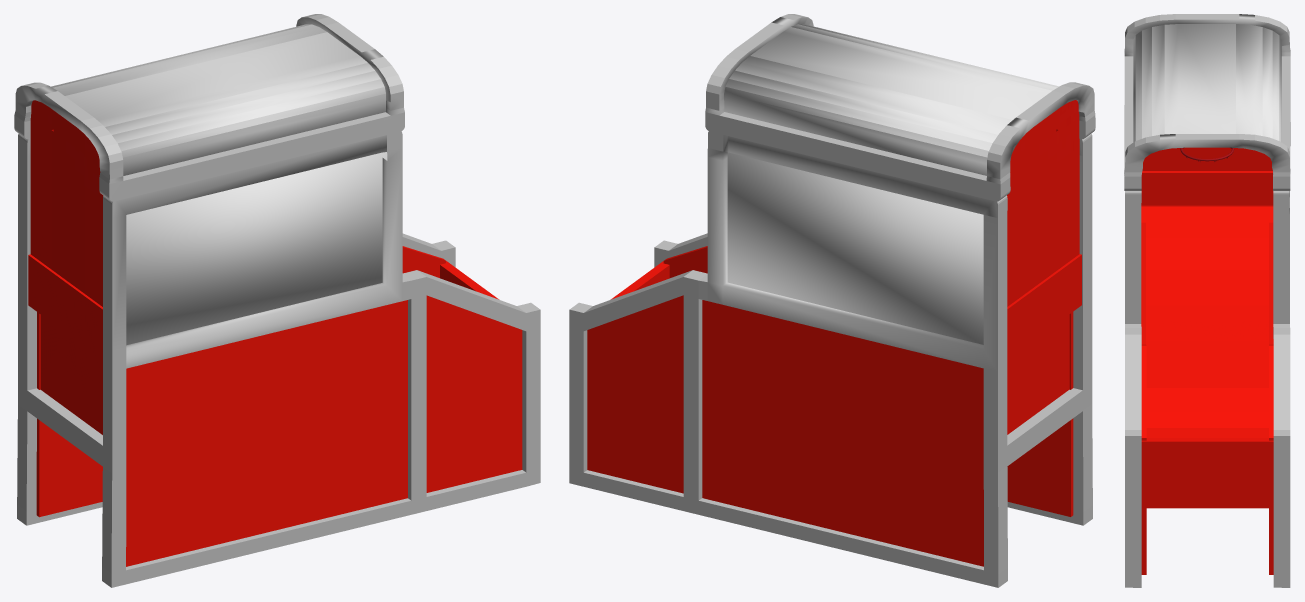
The model's file is остальное 2 (2).fbx.
The picture shows the model from 3 angles, left to right: view 1: azimuth 30°, elevation 25°; view 2: azimuth 150°, elevation 25°; view 3: azimuth 270°, elevation 25°; orthographic projection. The views are drawn at different scales.
Parts seen in each view (by area): view 1: Sphere.000; view 2: Sphere.000; view 3: Sphere.000.
Part boxes in pixels (x1,y1,x2,y2): Sphere.000: (14, 14, 540, 587); Sphere.000: (569, 14, 1095, 587); Sphere.000: (1124, 14, 1290, 587).
Size of the model in its own units: 145 by 144 by 55.52.
